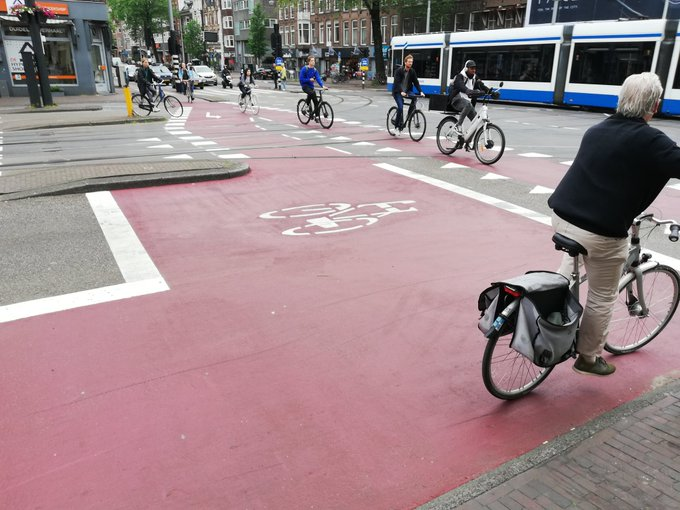commuter: (474, 71, 680, 403), (434, 60, 511, 165), (385, 56, 431, 143), (128, 58, 186, 119), (296, 54, 335, 131), (235, 67, 260, 116)
